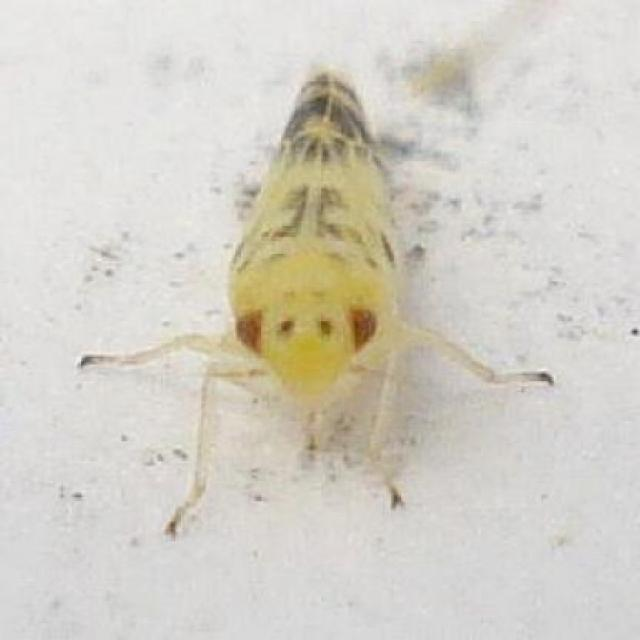green-leafhopper: (96, 74, 470, 512)
